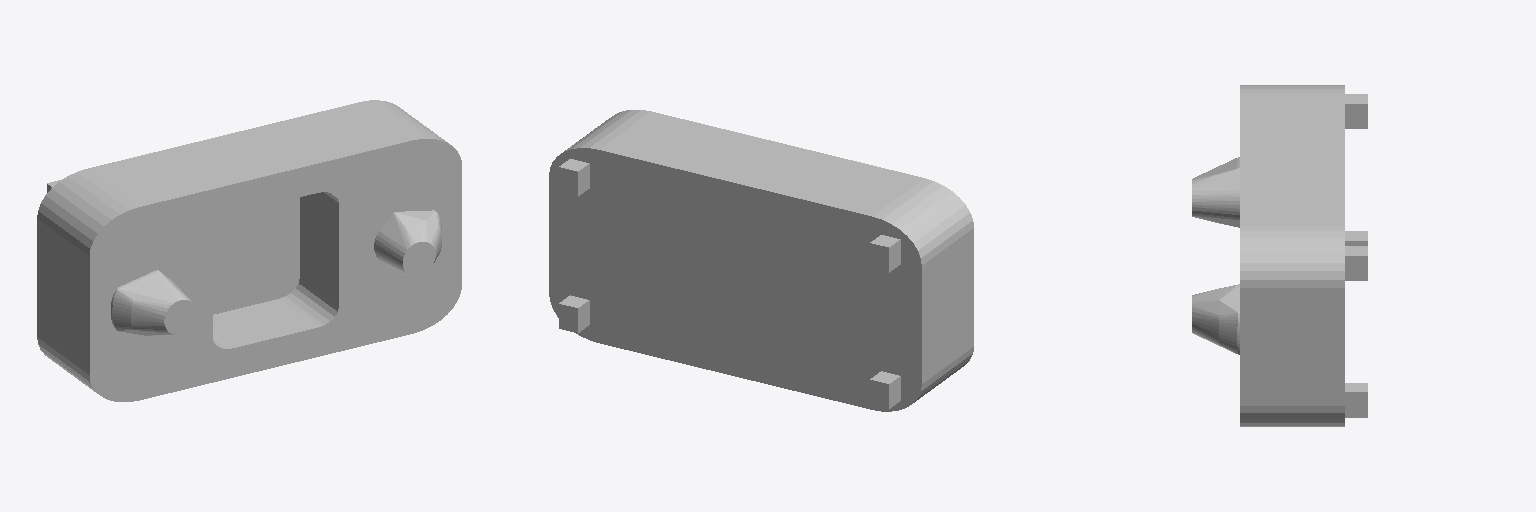
The model's file is mmp_panda_two_arm_base_grocery.obj.
3 views of the same model, side by side, from view 1: azimuth 30°, elevation 25°; view 2: azimuth 150°, elevation 25°; view 3: azimuth 270°, elevation 25° (orthographic).
Parts seen in each view (by area): view 1: base_collision.001, Link0, Link0.001; view 2: base_collision.001; view 3: base_collision.001, Link0, Link0.001.
Part boxes in pixels (x1,y1,x2,y2): base_collision.001: (37, 100, 461, 401); Link0: (111, 270, 196, 335); Link0.001: (374, 210, 441, 276); base_collision.001: (549, 110, 973, 411); base_collision.001: (1240, 85, 1367, 426); Link0: (1192, 157, 1239, 227); Link0.001: (1192, 284, 1239, 354).
Bounding box in the file's own units: 1.25 × 0.62 × 0.511.